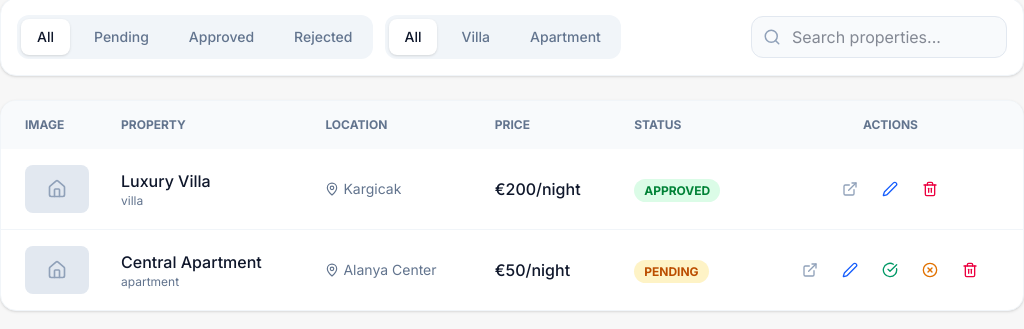
PropertiesPage › status filter works — shows only pending properties
Expected: the text "Luxury Villa" is shown, [121, 171, 211, 191]
Click the button "Pending" at (121, 37), box [78, 19, 165, 55]
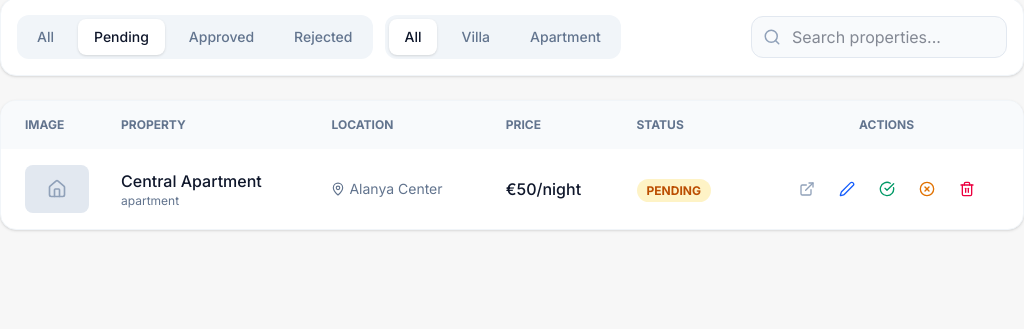
Expected: the text "Central Apartment" is shown, [121, 171, 262, 191]
Now the text "Luxury Villa" is gone
